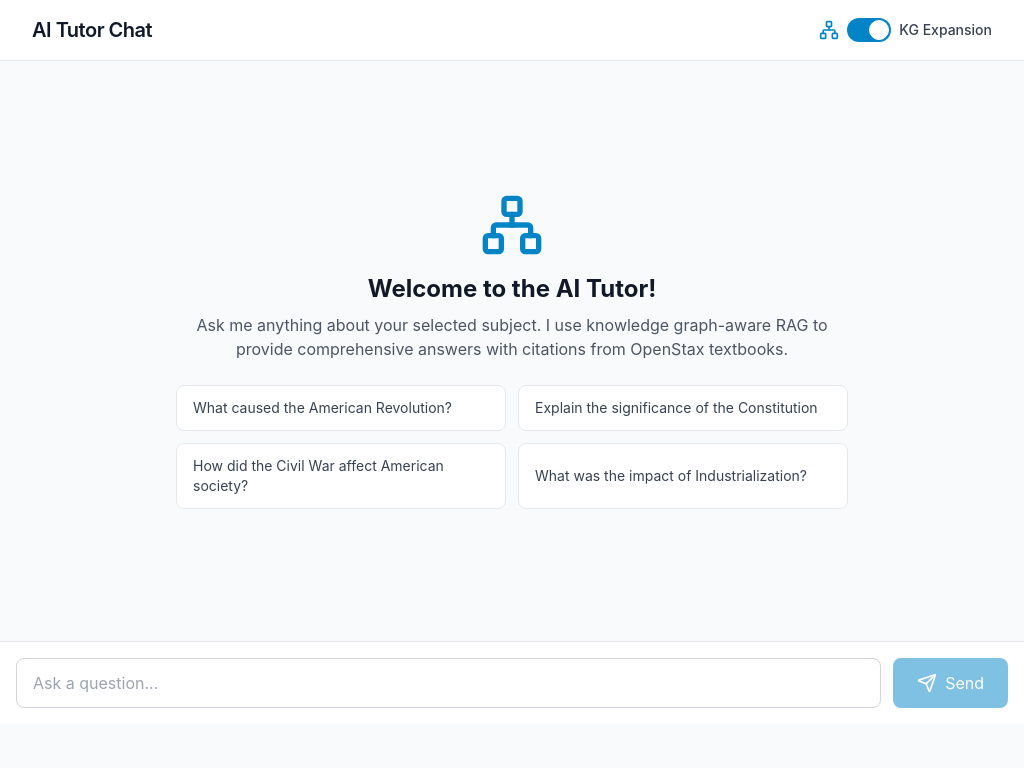
Scenario: ChatPage › KG Expansion Toggle › toggles KG expansion from its label
Click the text "KG Expansion" at (946,30), box 899,20 -> 992,40
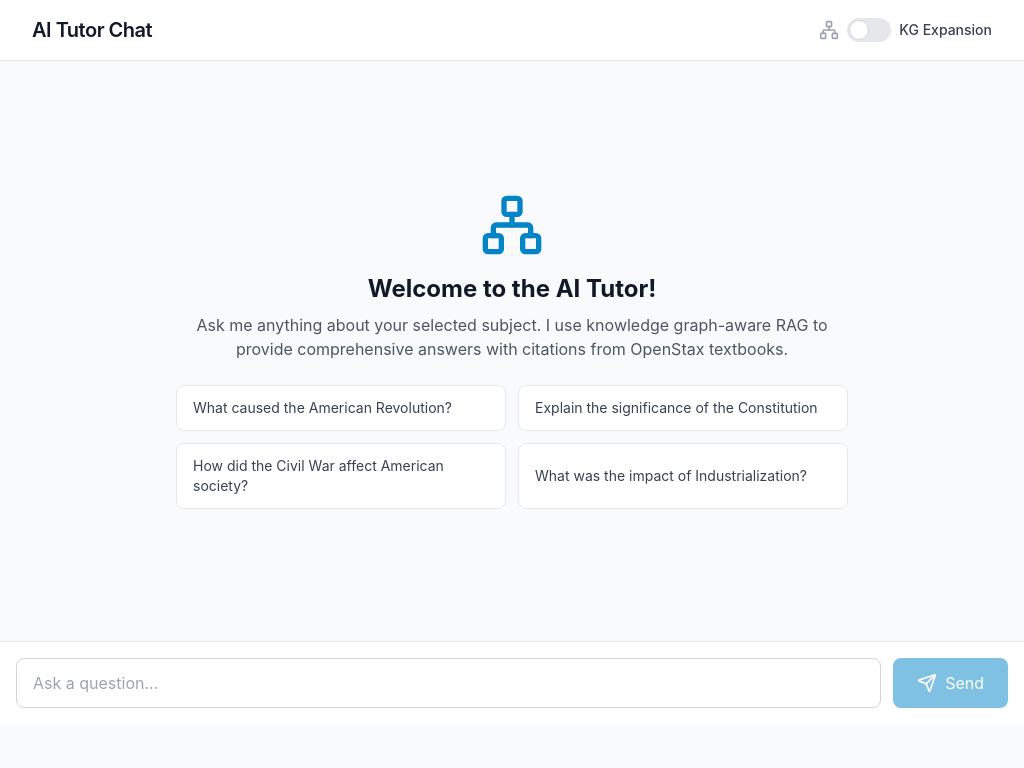
Now the checkbox labelled "KG Expansion" is not checked, box 819,18 -> 992,42
